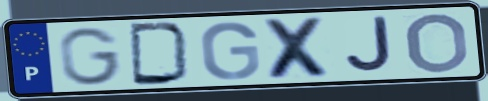D: (126, 21, 194, 87)
G: (56, 25, 124, 87), (198, 20, 263, 82)
J: (343, 15, 397, 76)
O: (404, 11, 471, 75)
X: (259, 16, 338, 82)
